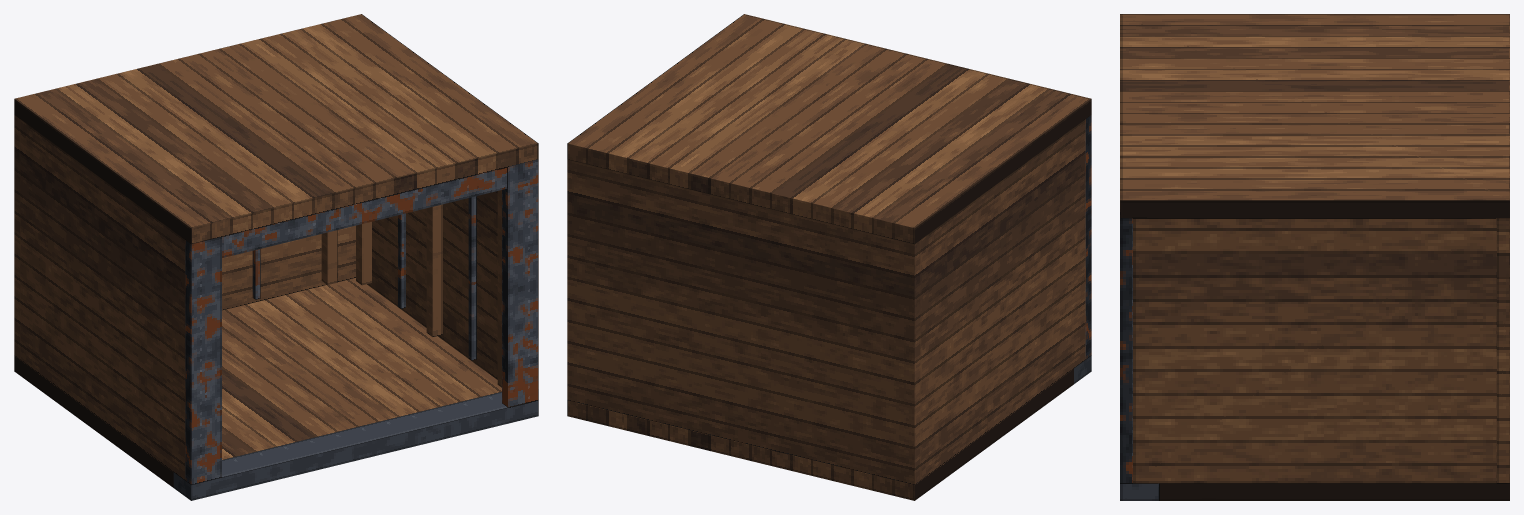
File: SM_Prop_ElevatorCab_01.glb
3 views of the same model, side by side, from view 1: azimuth 30°, elevation 25°; view 2: azimuth 150°, elevation 25°; view 3: azimuth 270°, elevation 25° (orthographic). The views are drawn at different scales.
Visible parts, largest first — view 1: ceiling, side_wall_left, floor, side_wall_right, threshold, gate_jamb_left, gate_jamb_right, rear_wall, gate_header, upright_right_1, side_strap_right_1, upright_right_2 (+3 smaller); view 2: rear_wall, ceiling, side_wall_left, floor, gate_jamb_left; view 3: side_wall_right, ceiling, floor, rear_wall, gate_jamb_right, threshold.
Part boxes in pixels (<box>): ceiling: <box>14,14,538,244</box>; side_wall_left: <box>20,119,185,479</box>; floor: <box>14,278,501,487</box>; side_wall_right: <box>367,191,497,379</box>; threshold: <box>173,392,538,500</box>; gate_jamb_left: <box>185,237,221,484</box>; gate_jamb_right: <box>502,159,538,407</box>; rear_wall: <box>14,115,355,359</box>; gate_header: <box>222,167,507,257</box>; upright_right_1: <box>426,204,442,336</box>; side_strap_right_1: <box>468,196,476,360</box>; upright_right_2: <box>497,190,501,387</box>; rear_wall: <box>567,159,920,484</box>; ceiling: <box>567,14,1091,244</box>; side_wall_left: <box>920,119,1085,479</box>; floor: <box>567,368,1073,500</box>; gate_jamb_left: <box>1085,115,1091,359</box>; side_wall_right: <box>1133,218,1496,483</box>; ceiling: <box>1120,14,1509,218</box>; floor: <box>1159,483,1509,500</box>; rear_wall: <box>1497,218,1509,483</box>; gate_jamb_right: <box>1120,218,1132,483</box>; threshold: <box>1120,483,1158,500</box>.
Bounding box in the file's own units: 4.25 × 3.19 × 3.75.
1 material, 1 textured.
